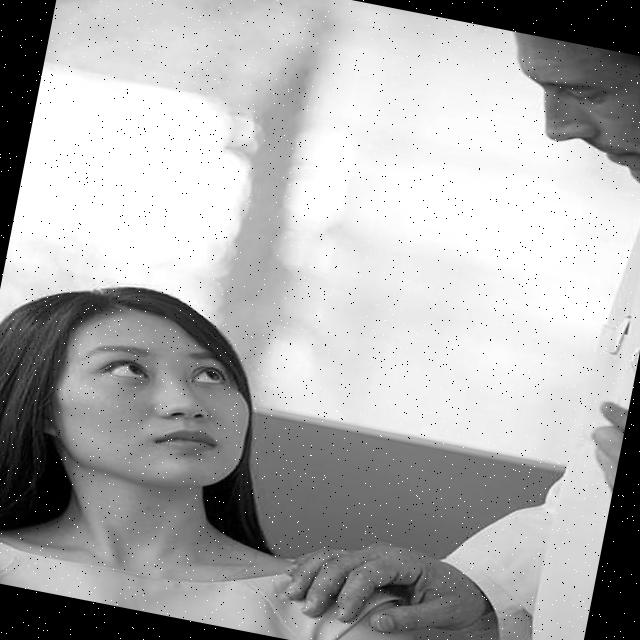Fear: (49, 307, 260, 495)
